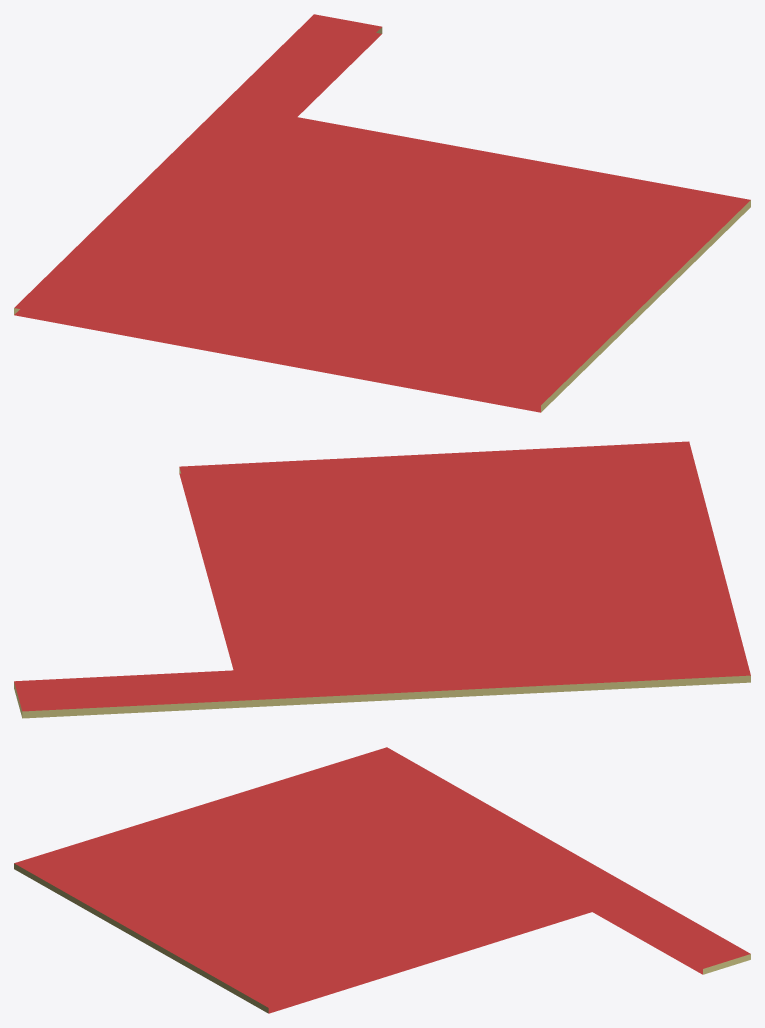
The picture shows the model from 3 angles, top to bottom: view 1: azimuth 30°, elevation 25°; view 2: azimuth 150°, elevation 25°; view 3: azimuth 270°, elevation 25°; orthographic projection. The views are drawn at different scales.
Bounding box in the file's own units: 9.56 × 11.42 × 0.1.
